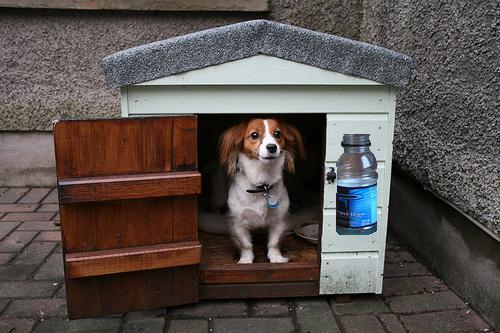tampered: (337, 135, 378, 235)
